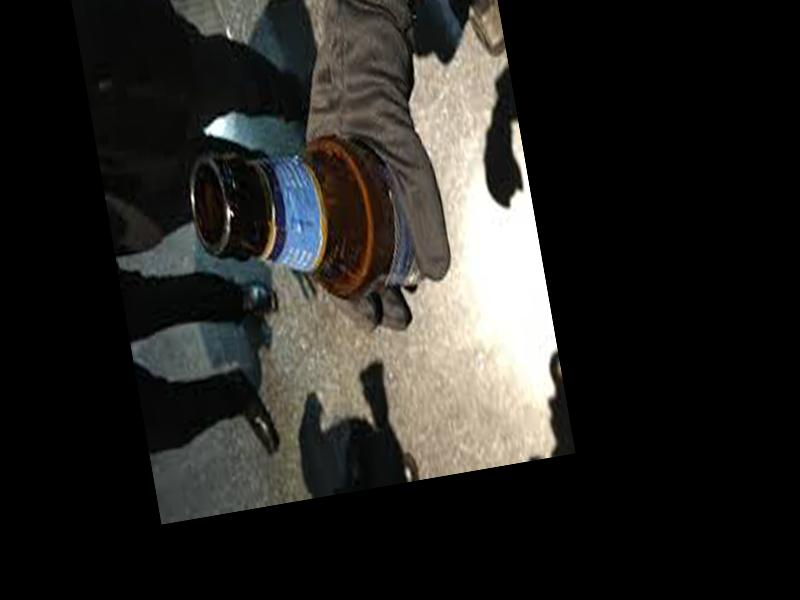Beer: (182, 115, 442, 331)
